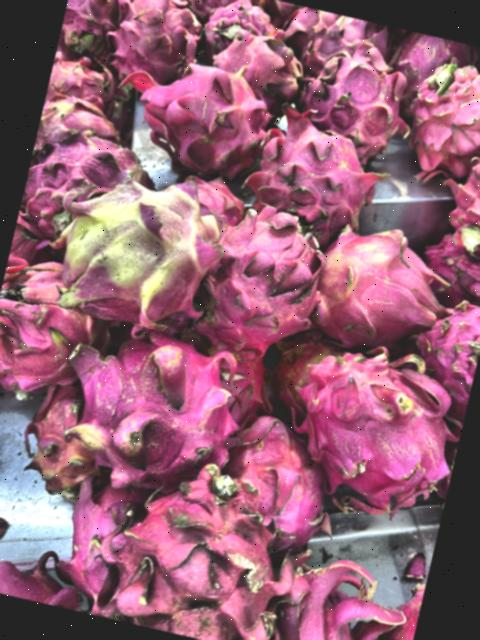buah-naga-belum-matang: (42, 156, 234, 334), (306, 216, 450, 350)
buah-naga-matang: (86, 446, 294, 640), (44, 302, 250, 486), (274, 334, 474, 522), (240, 99, 394, 238), (124, 50, 278, 180), (193, 200, 324, 350), (207, 408, 334, 548), (0, 250, 103, 400), (250, 543, 409, 640), (294, 40, 416, 163), (21, 125, 146, 227), (46, 478, 138, 590), (401, 55, 480, 175), (207, 24, 317, 107), (102, 0, 204, 84), (408, 293, 480, 405), (439, 118, 480, 253), (36, 91, 124, 153), (390, 28, 471, 82), (57, 0, 128, 57), (47, 48, 117, 104), (205, 0, 269, 43)
